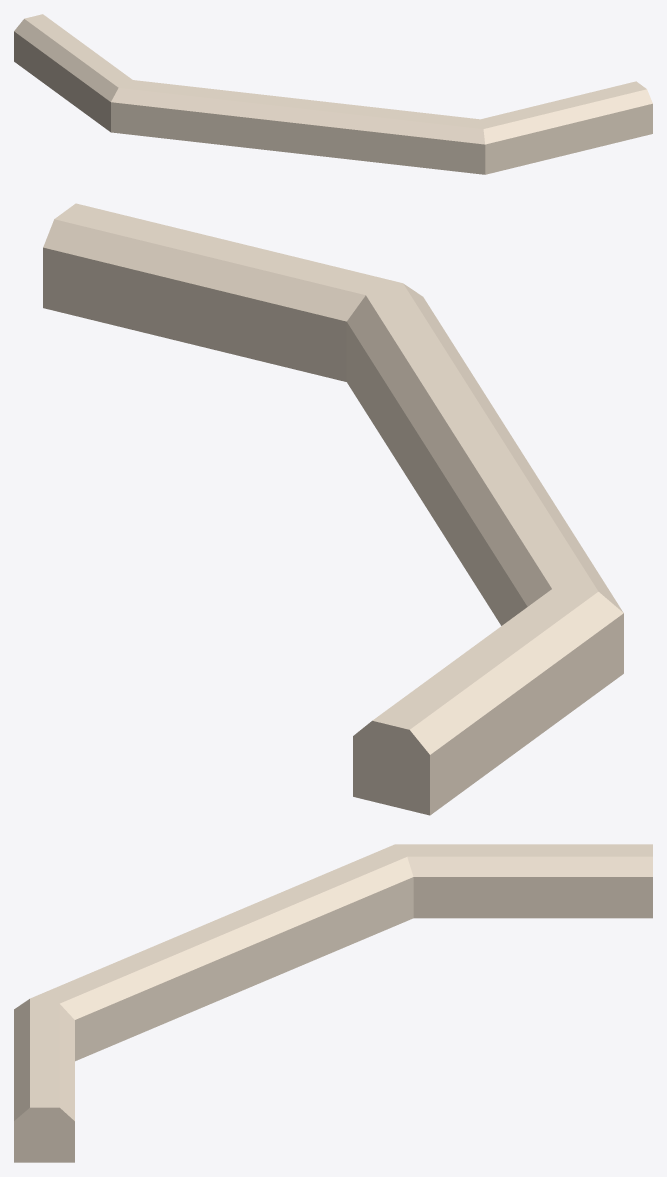
The model's file is Wall_Curved_Large_Coping.glb.
3 views of the same model, one above another, from view 1: azimuth 30°, elevation 25°; view 2: azimuth 150°, elevation 25°; view 3: azimuth 270°, elevation 25° (orthographic). The views are drawn at different scales.
Visible parts, largest first — view 1: Wall_Curved_Large_Coping; view 2: Wall_Curved_Large_Coping; view 3: Wall_Curved_Large_Coping.
Boxes of the visible parts, x1,y1,x2,y2 form: Wall_Curved_Large_Coping: [14, 14, 652, 174]; Wall_Curved_Large_Coping: [43, 203, 623, 815]; Wall_Curved_Large_Coping: [14, 844, 652, 1162].
Bounding box in the file's own units: 0.945 × 0.09 × 0.945.
